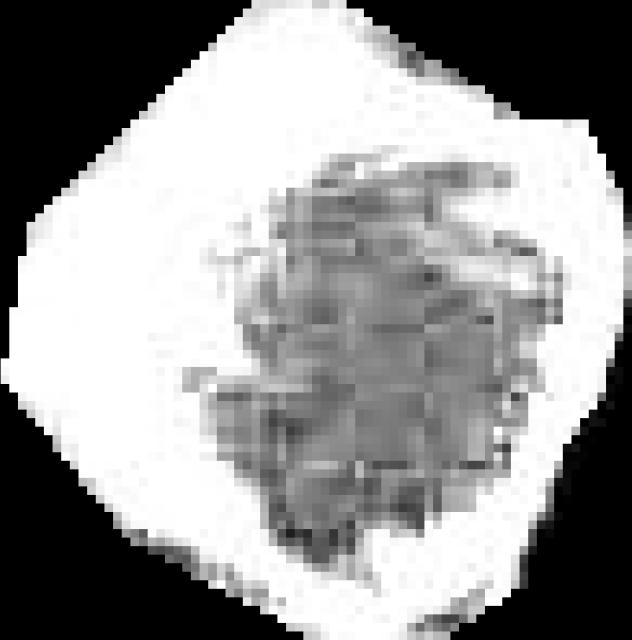tumor_moderate_chance: (1, 0, 632, 640)
